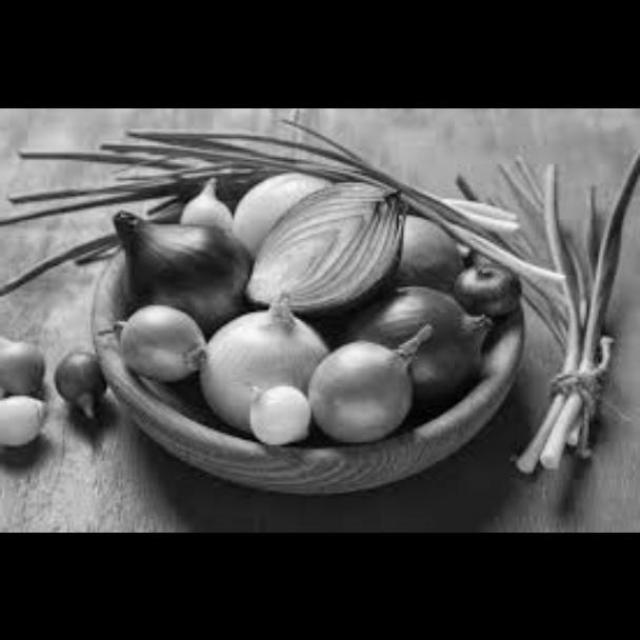onion: (234, 179, 411, 316), (332, 278, 494, 396), (92, 203, 254, 315), (202, 288, 322, 424), (306, 322, 435, 442), (218, 157, 320, 247), (376, 206, 476, 297), (112, 302, 214, 382), (223, 371, 310, 463), (174, 172, 241, 252), (447, 264, 528, 317), (55, 345, 107, 419), (1, 381, 47, 455), (1, 331, 47, 394)
